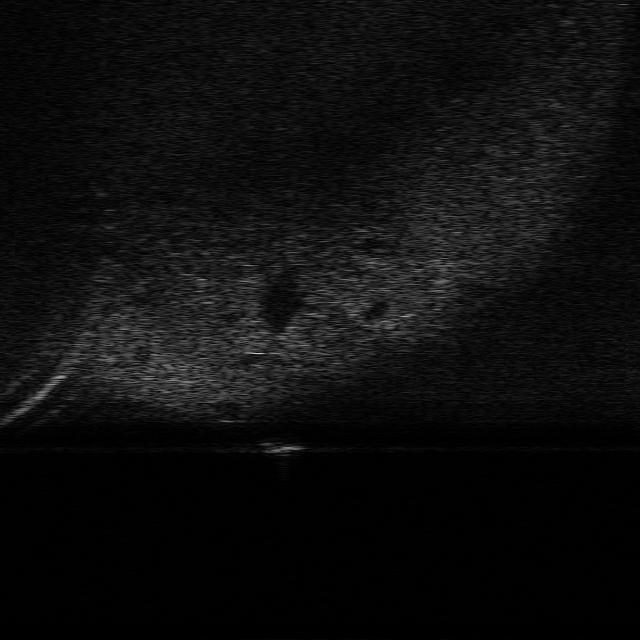cube: (255, 436, 306, 458)
